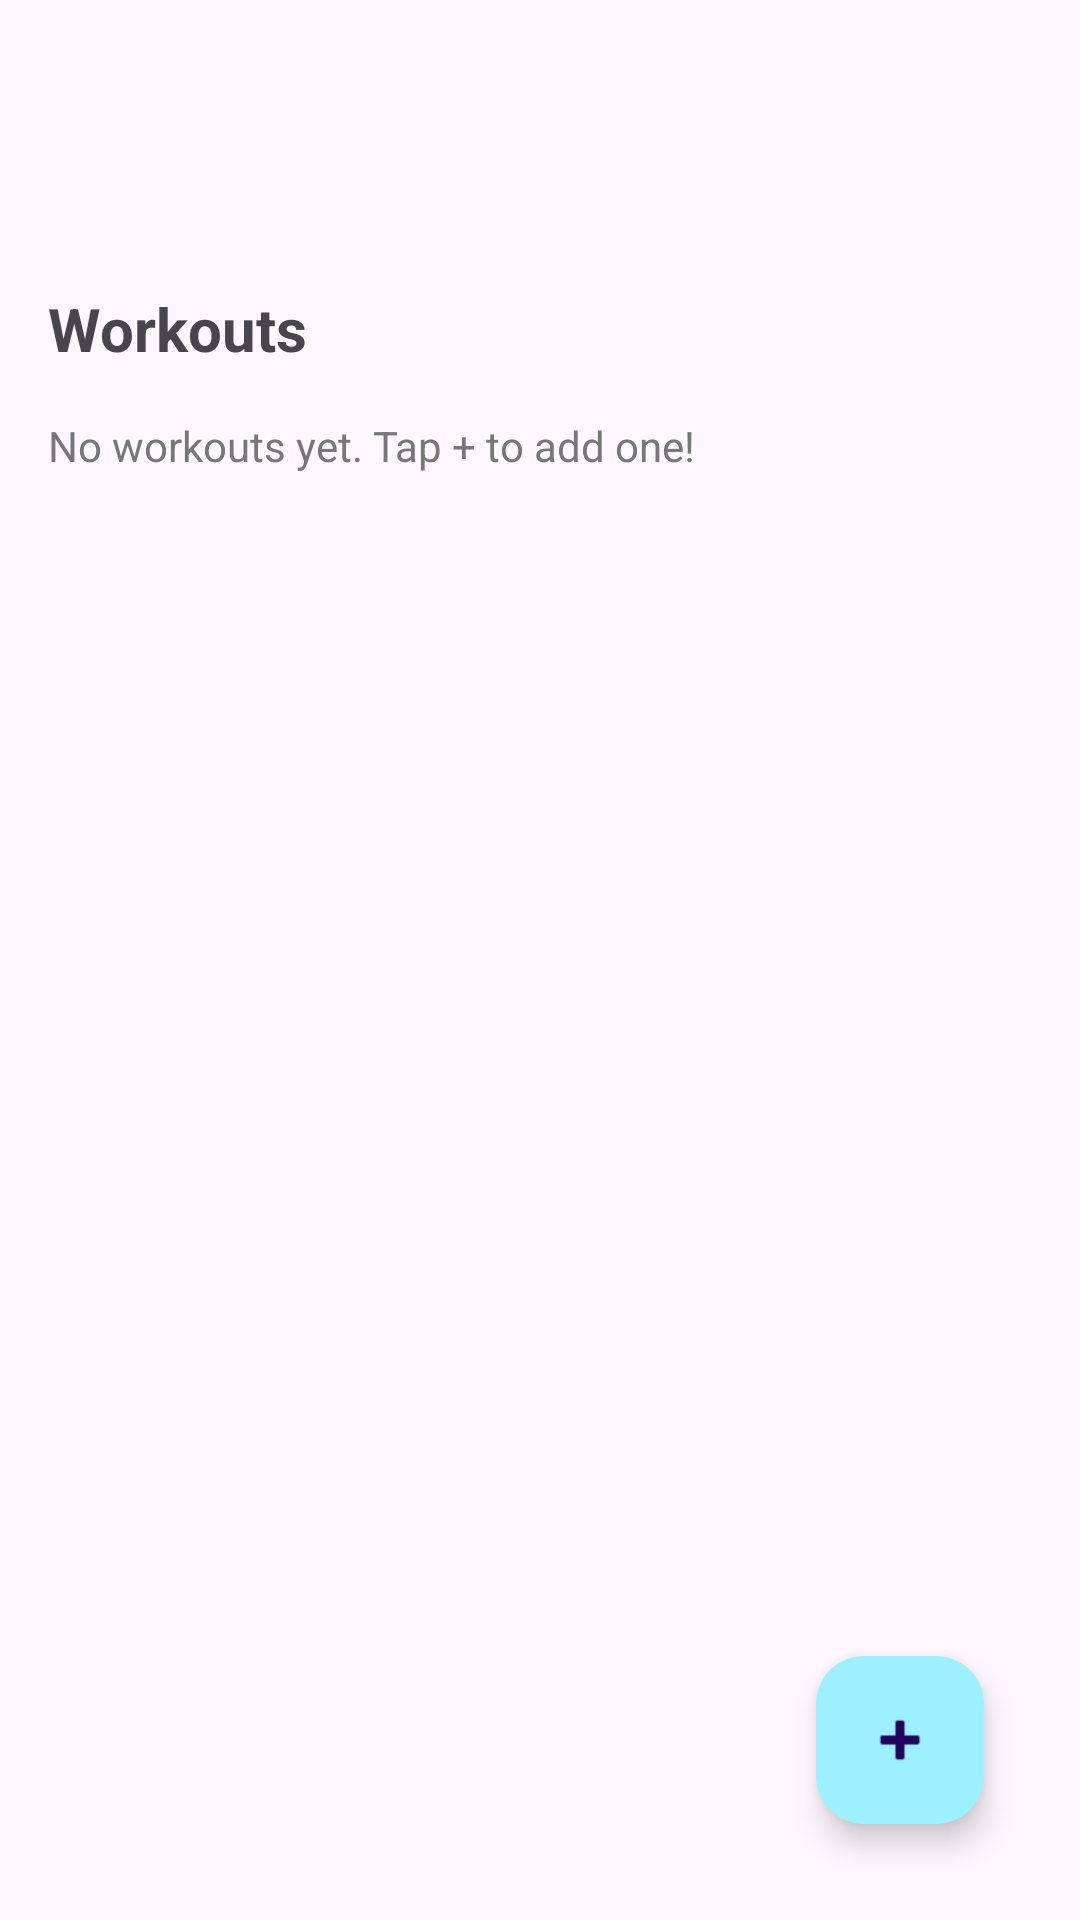

Named icons in this screenshot (1080x1920) and their bounding boxes, (x1, y1, x2, y2):
Add workout: (816, 1656, 984, 1824)
